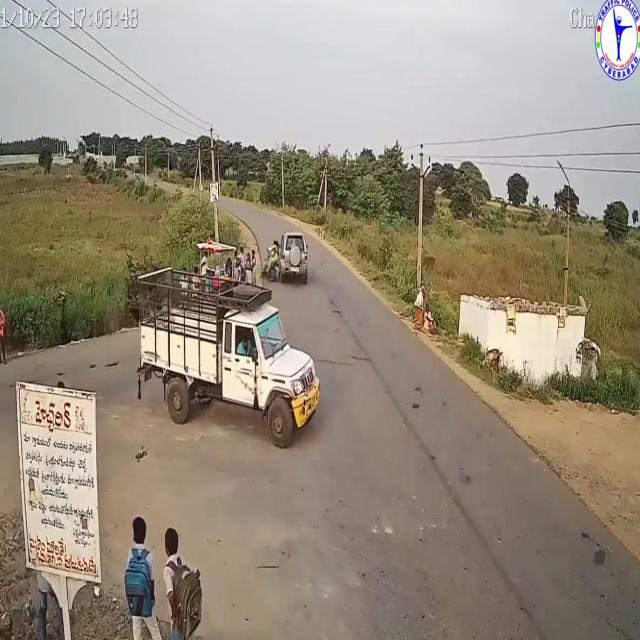accident: (260, 228, 310, 288)
